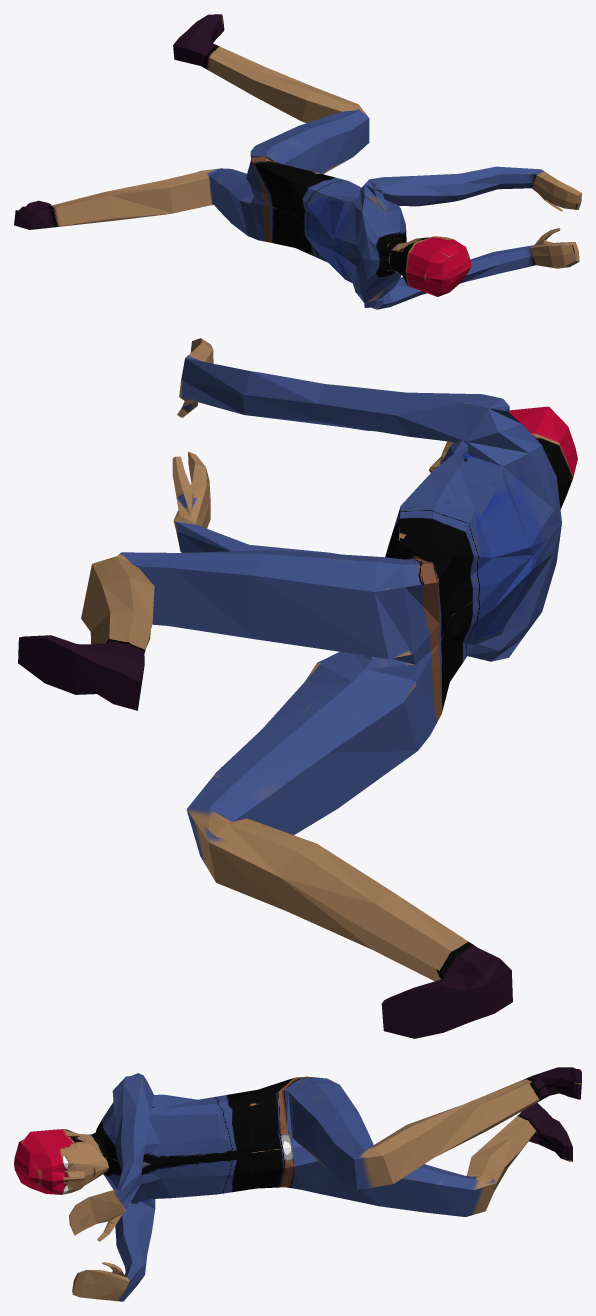
File: mirrorman_000023.obj
3 views of the same model, one above another, from view 1: azimuth 30°, elevation 25°; view 2: azimuth 150°, elevation 25°; view 3: azimuth 270°, elevation 25° (orthographic). The views are drawn at different scales.
Visible parts, largest first — view 1: mirrorman_Cube.001_Material.001; view 2: mirrorman_Cube.001_Material.001; view 3: mirrorman_Cube.001_Material.001.
Part boxes in pixels (x1,y1,x2,y2): mirrorman_Cube.001_Material.001: [14, 14, 581, 309]; mirrorman_Cube.001_Material.001: [18, 338, 577, 1038]; mirrorman_Cube.001_Material.001: [14, 1067, 581, 1301].
Size of the model in its own units: 1.29 by 0.5451 by 1.51.
1 material, 1 textured.
